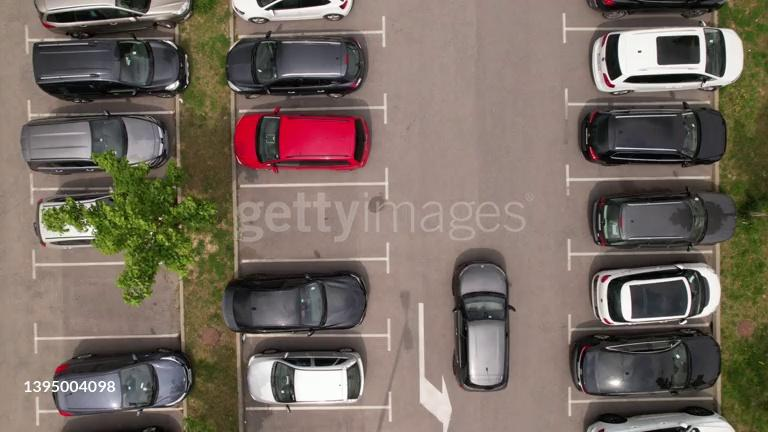car: (230, 109, 388, 179), (34, 344, 198, 410), (225, 264, 386, 330), (594, 34, 746, 97), (224, 36, 372, 100), (23, 38, 190, 93), (30, 184, 174, 247), (24, 118, 180, 176), (588, 190, 744, 246), (251, 345, 366, 413), (580, 115, 728, 167), (588, 265, 726, 320), (578, 340, 722, 390), (457, 256, 511, 380), (580, 400, 740, 430), (218, 0, 368, 27), (27, 0, 188, 25), (582, 1, 726, 24)
